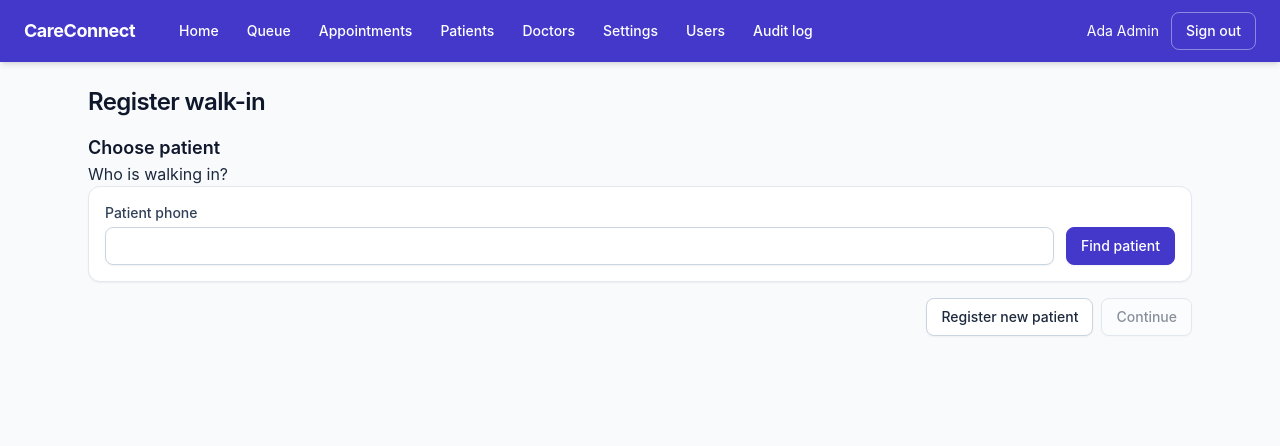
Test: Walk-in registration › uses emergency-held capacity only when there is no regular slot anywhere
This screenshot has width=1280, height=446.
Type "98765 43210" into the field labelled "Patient phone" at (580, 246), box x1=105 y1=227 x2=1054 y2=265
Click the button "Find patient" at (1120, 246), box x1=1066 y1=227 x2=1175 y2=265
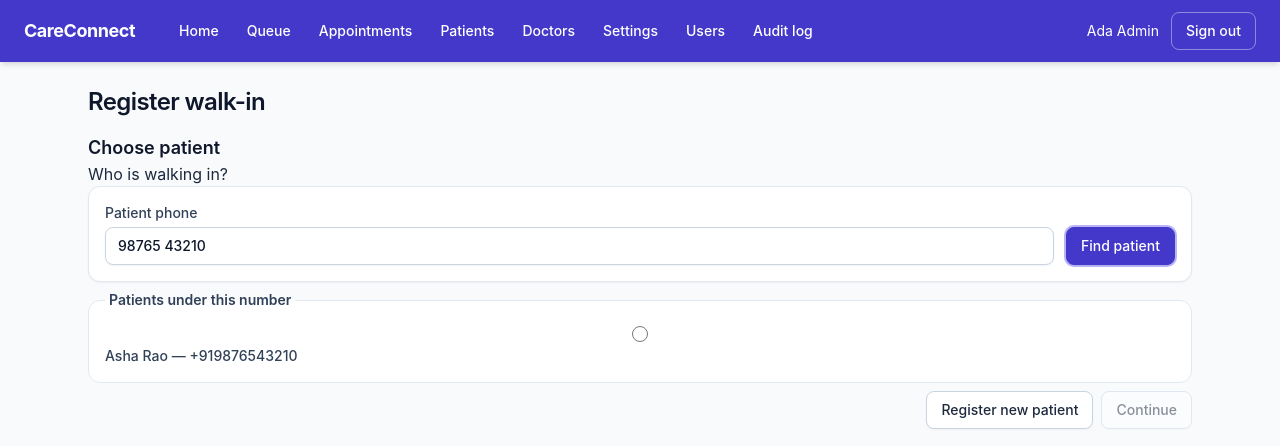
Click the radio button labelled "Asha Rao — +919876543210" at (640, 334), box x1=105 y1=326 x2=1175 y2=342
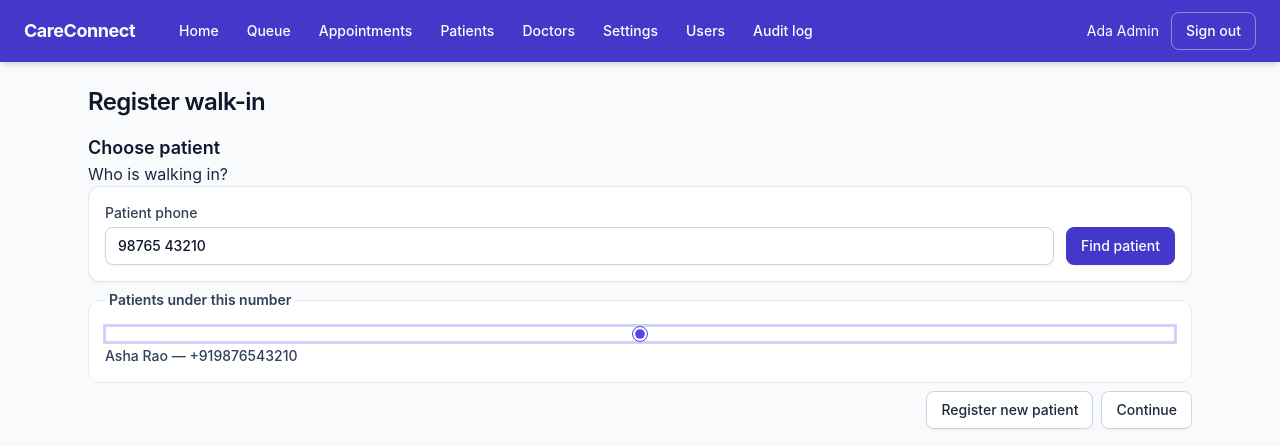
Click the button "Continue" at (1147, 410), box x1=1102 y1=391 x2=1192 y2=429
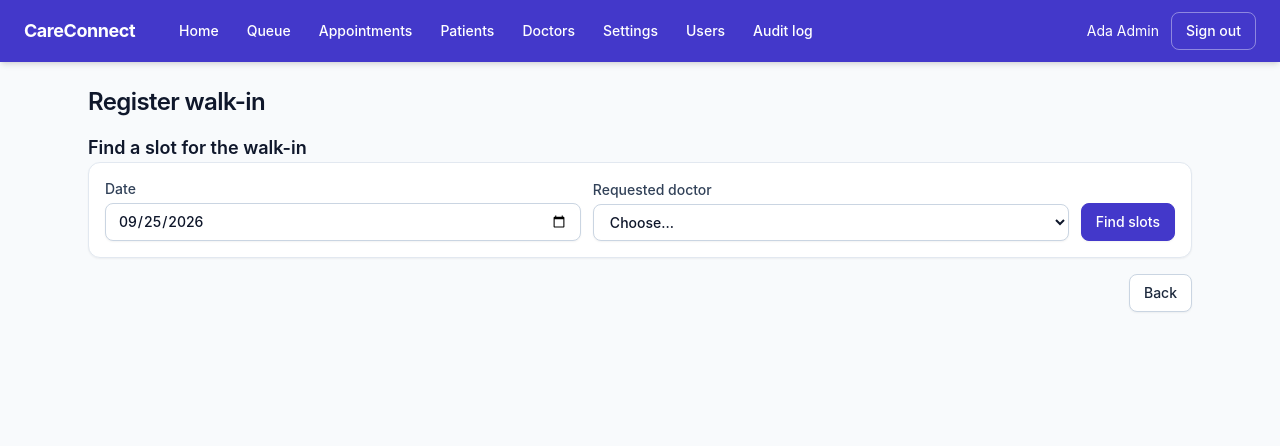
Type "2026-03-02" into the date field labelled "Date" at (343, 222), box x1=105 y1=203 x2=581 y2=241
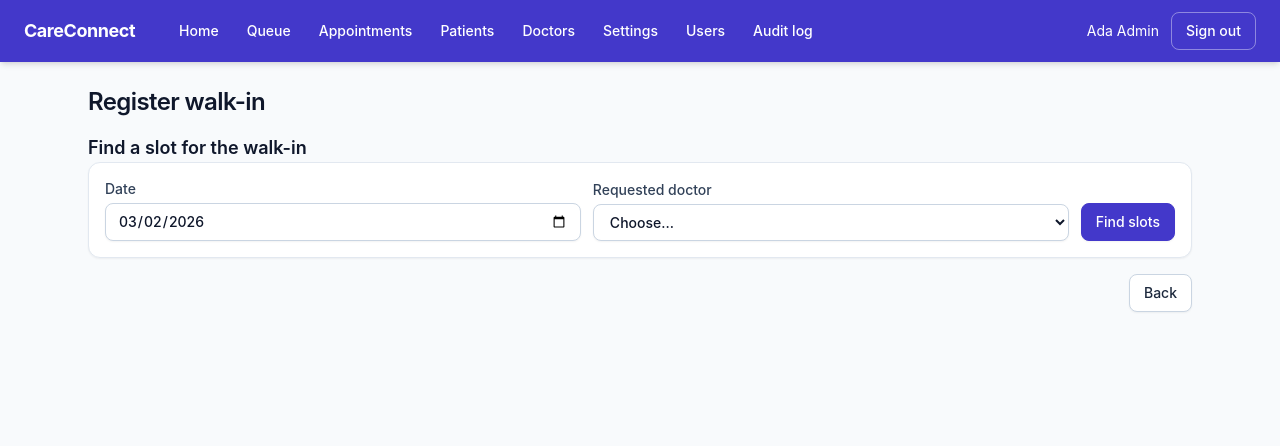
Select "Dr Dan" in the dropdown labelled "Requested doctor" at (831, 222), box x1=593 y1=204 x2=1069 y2=241
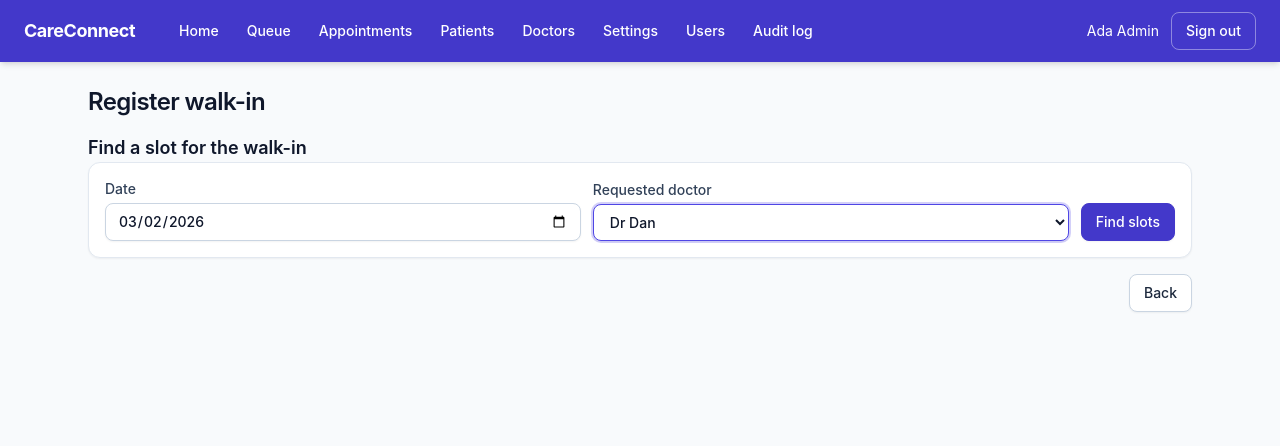
Click the button "Find slots" at (1128, 222), box x1=1081 y1=203 x2=1175 y2=241
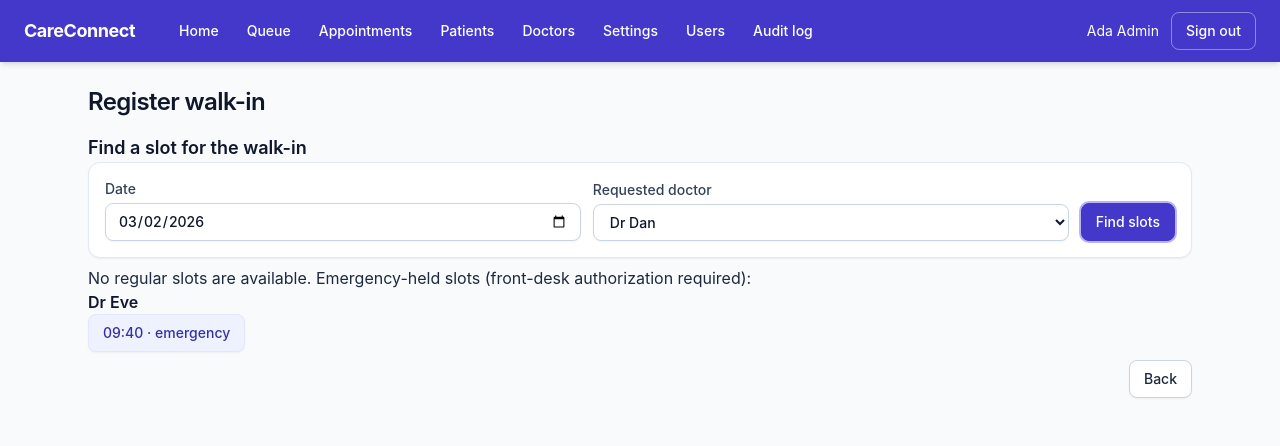
Result: the button "09:40 · emergency" is shown at x1=88 y1=314 x2=245 y2=352
